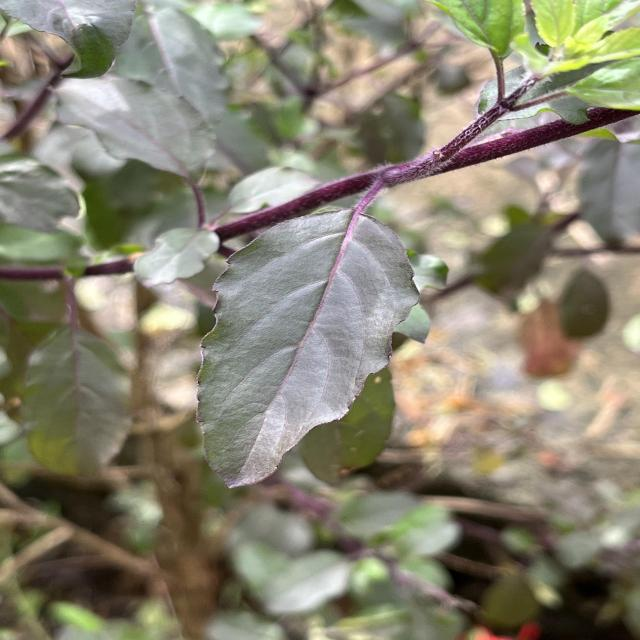Ocimum tenuiflorum: (194, 207, 426, 490)
